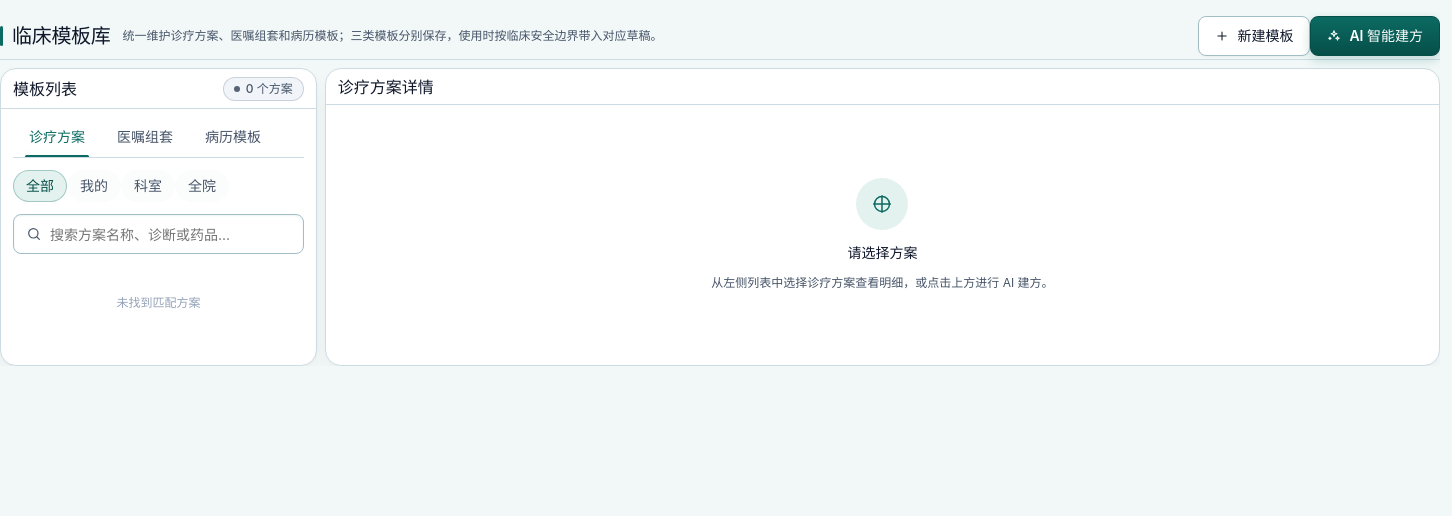
it: order sets in the library › keeps legacy groups read-only: no edit, disable or copy action
Click the tab "医嘱组套".
click(145, 137)  # box [101, 117, 189, 157]
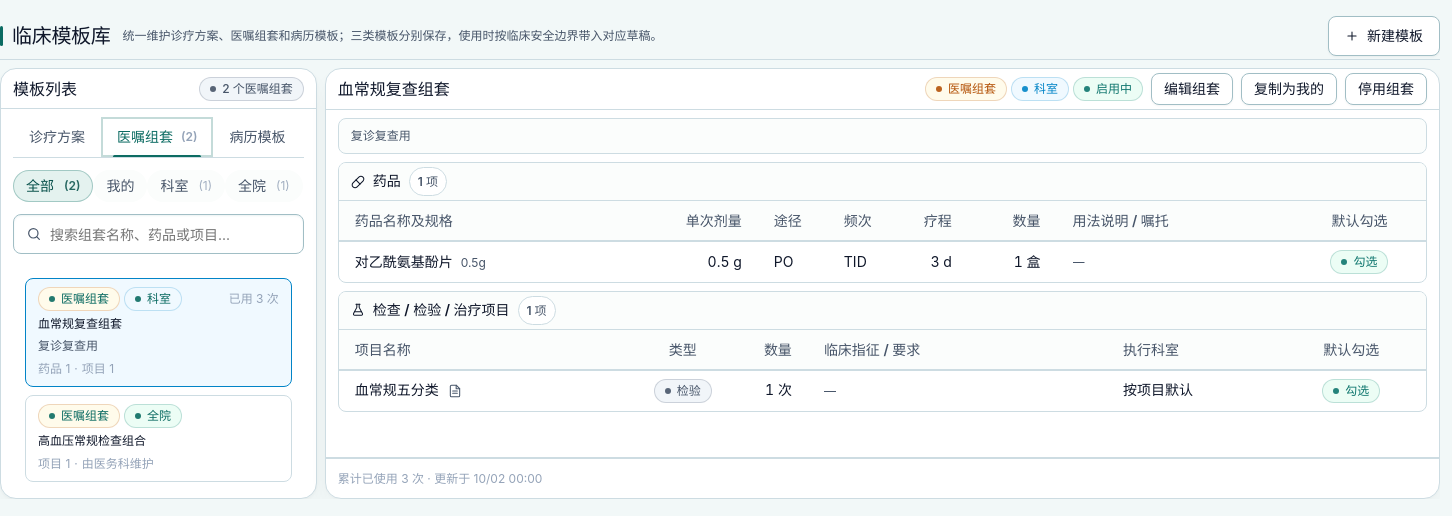
Click the text "高血压常规检查组合".
click(92, 441)  # box [38, 433, 146, 448]
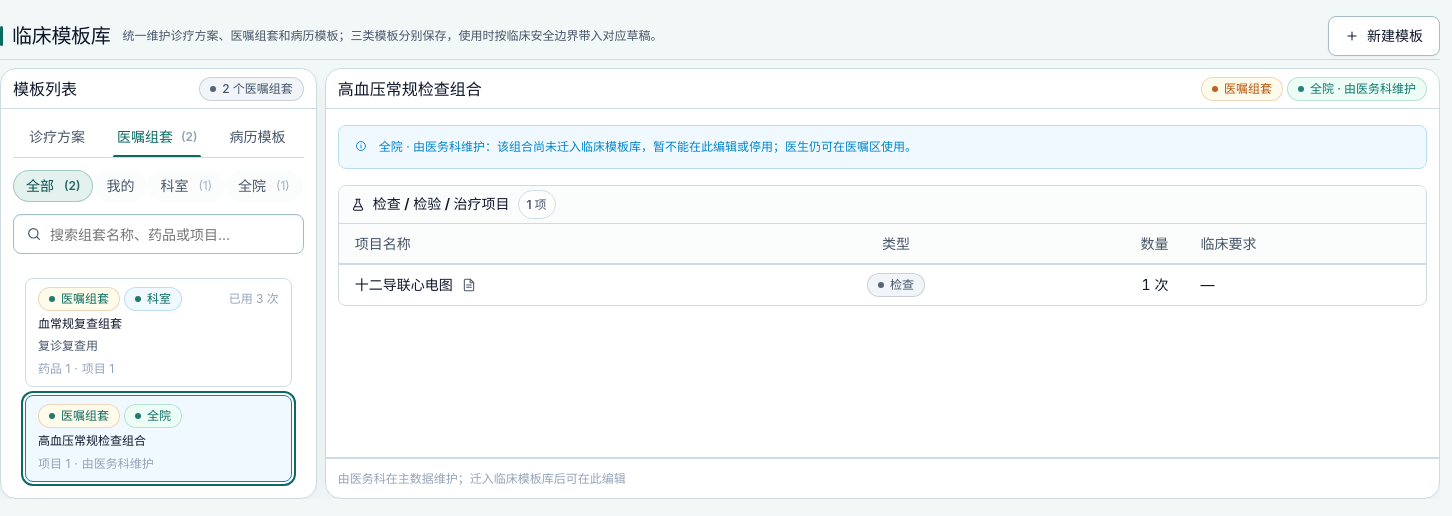
Expected: the table named "旧组合项目" is shown, [339, 224, 1426, 305]
Expected: the text "全院 · 由医务科维护" is shown, [1287, 76, 1427, 100]
